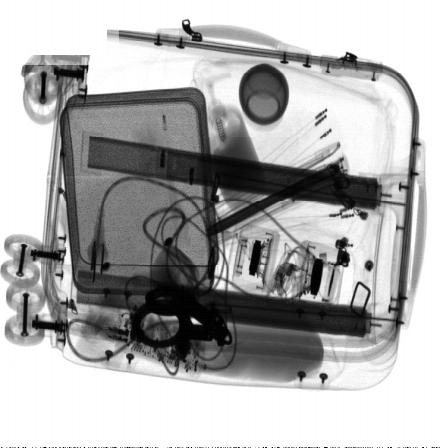HandCuffs: (128, 284, 236, 353)
